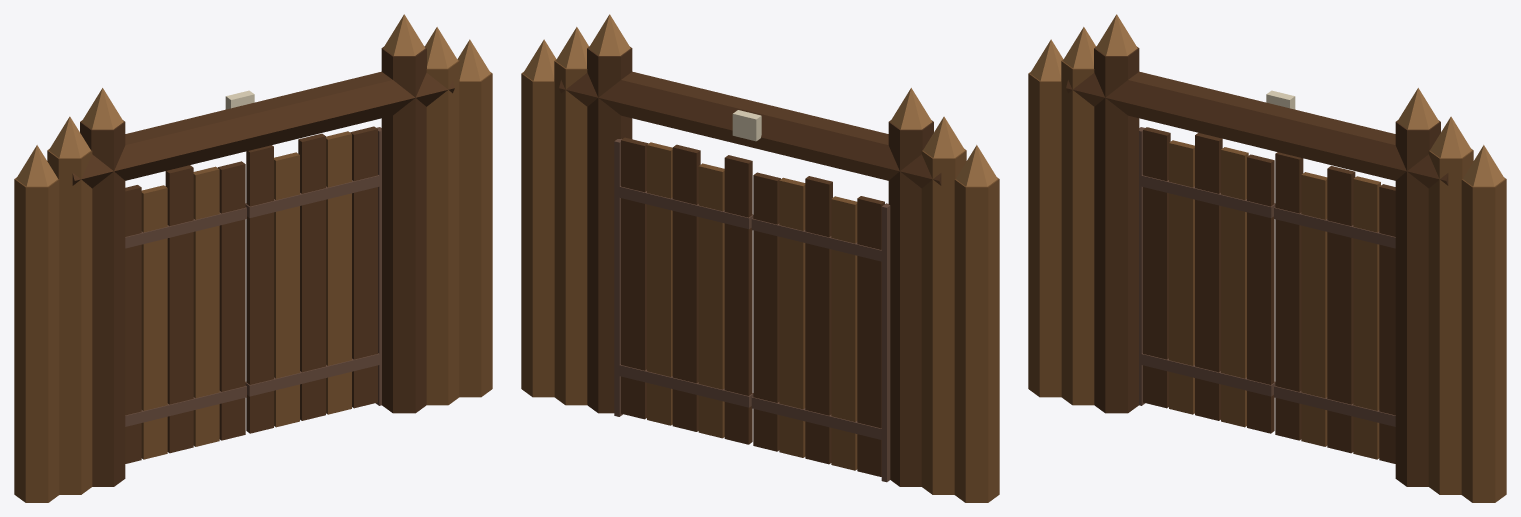
Rendered from SM_YardGate.fbx.
3 renders of one model, left to right at view 1: azimuth 30°, elevation 25°; view 2: azimuth 150°, elevation 25°; view 3: azimuth 330°, elevation 25°, orthographic.
Parts seen in each view (by area): view 1: SM_YardGate_Frame, DoorL, DoorR; view 2: SM_YardGate_Frame, DoorL, DoorR; view 3: SM_YardGate_Frame, DoorR, DoorL.
Boxes of the visible parts, x1,y1,x2,y2 form: SM_YardGate_Frame: (14, 14, 492, 502); DoorL: (245, 126, 381, 433); DoorR: (125, 161, 246, 463); SM_YardGate_Frame: (521, 14, 999, 502); DoorL: (614, 137, 753, 444); DoorR: (751, 172, 890, 482); SM_YardGate_Frame: (1028, 14, 1506, 502); DoorR: (1139, 127, 1275, 433); DoorL: (1274, 152, 1395, 463).
Bounding box in the file's own units: 7.12 × 0.72 × 5.7.
